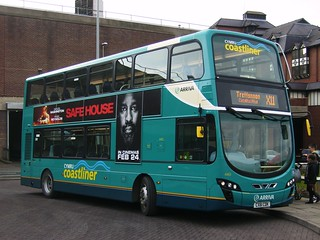bus: (20, 29, 295, 216)
